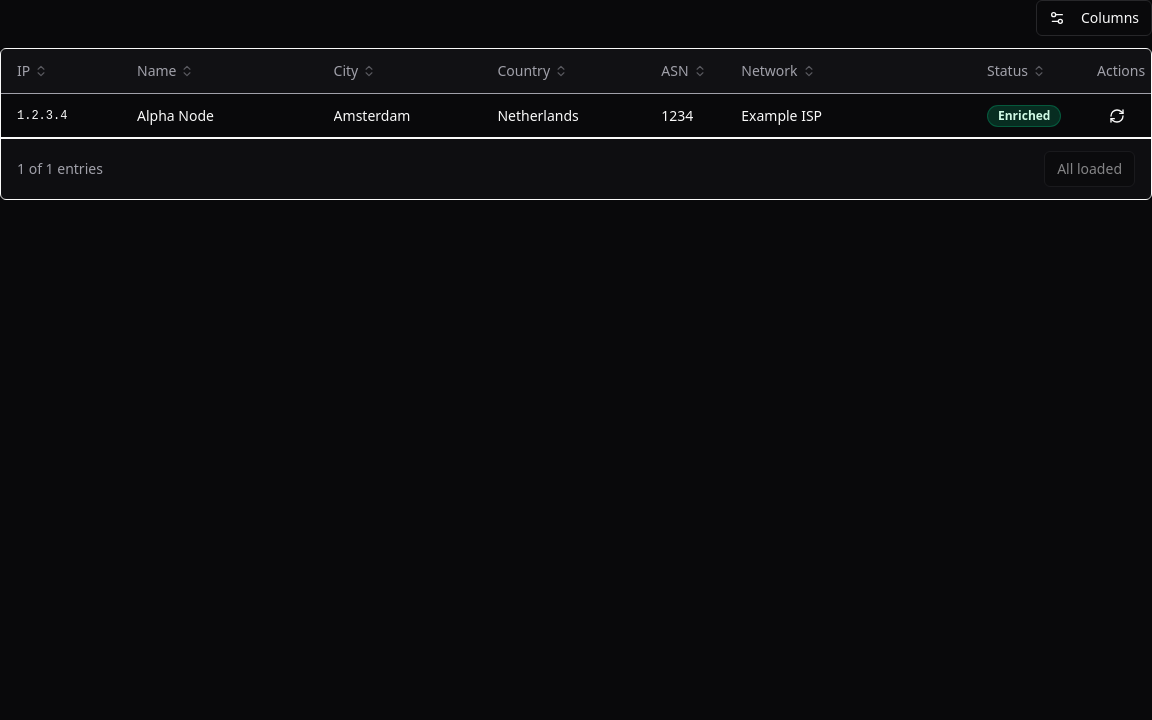
it: CatalogueTable › hostname column › enabling Hostname renders the seeded hostname next to the bare IP
Click the button "Columns". click: [1094, 18]
box: [1036, 0, 1151, 36]
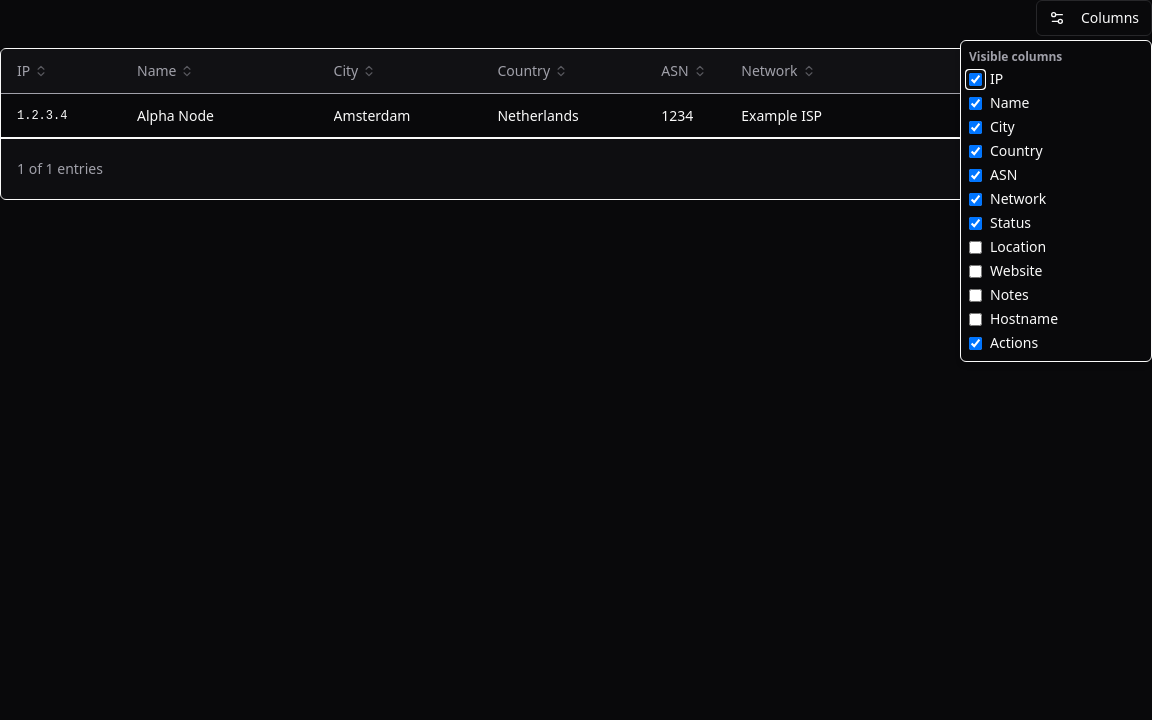
expect the checkbox labelled "Hostname" is not checked: met
Click the checkbox labelled "Hostname". click: [976, 319]
box: [969, 312, 982, 326]
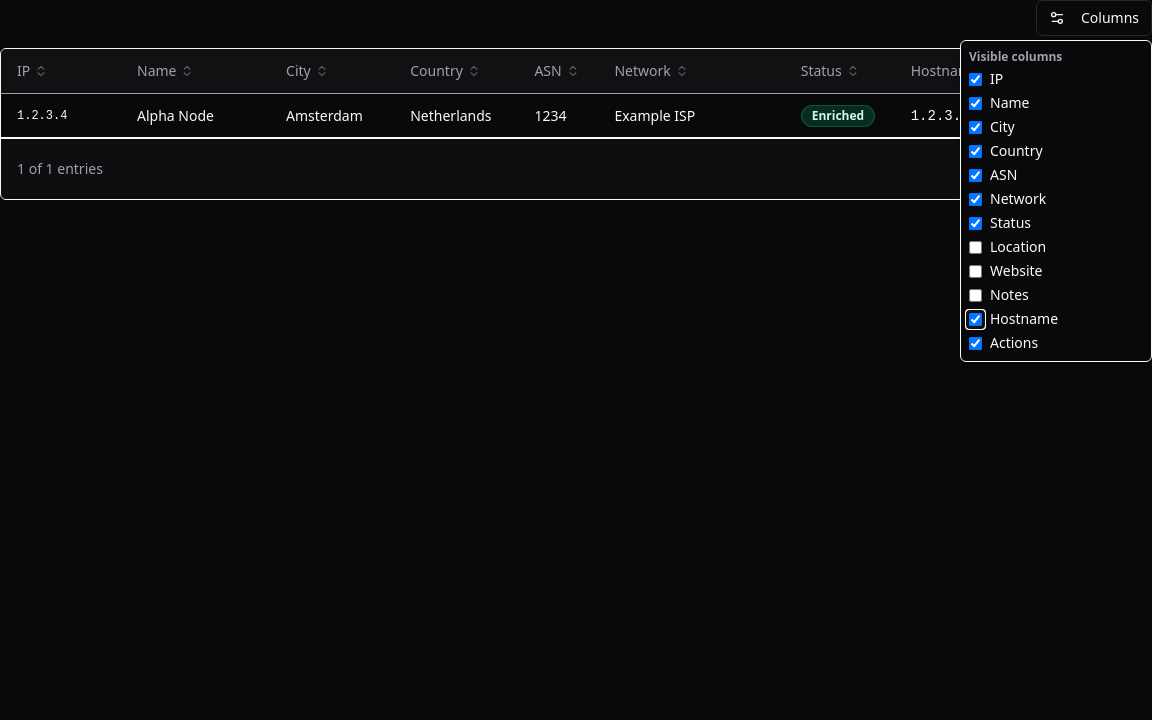
expect the column heading "Hostname" is shown: met, box [911, 61, 979, 80]
